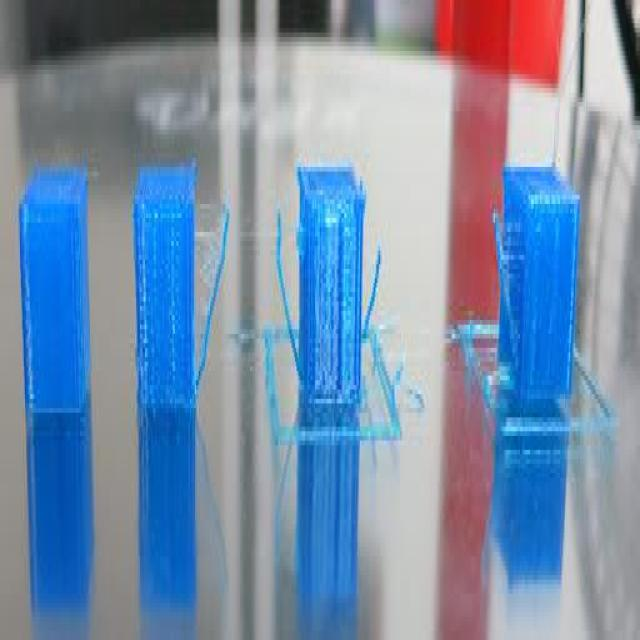Stringing: (260, 153, 305, 524), (476, 167, 526, 482), (192, 151, 242, 457), (363, 167, 408, 478)
